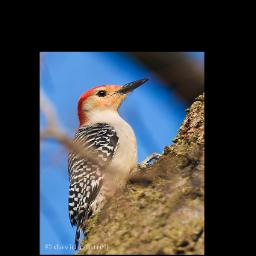Woodpecker: (68, 76, 151, 251)
